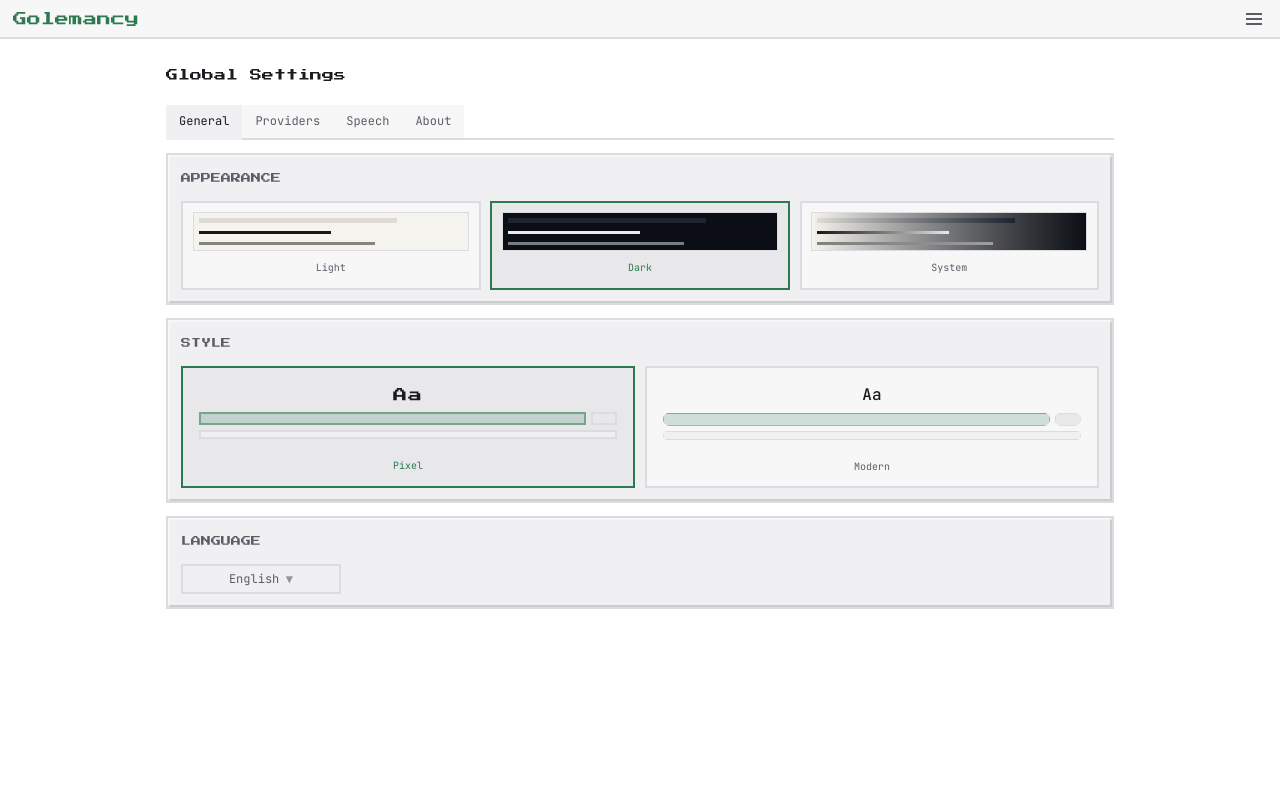
Test case: DefaultModelSection › shows orphaned warning when defaultModel references unavailable provider
Click the button "Providers". click: (288, 122)
box: [242,104,333,140]
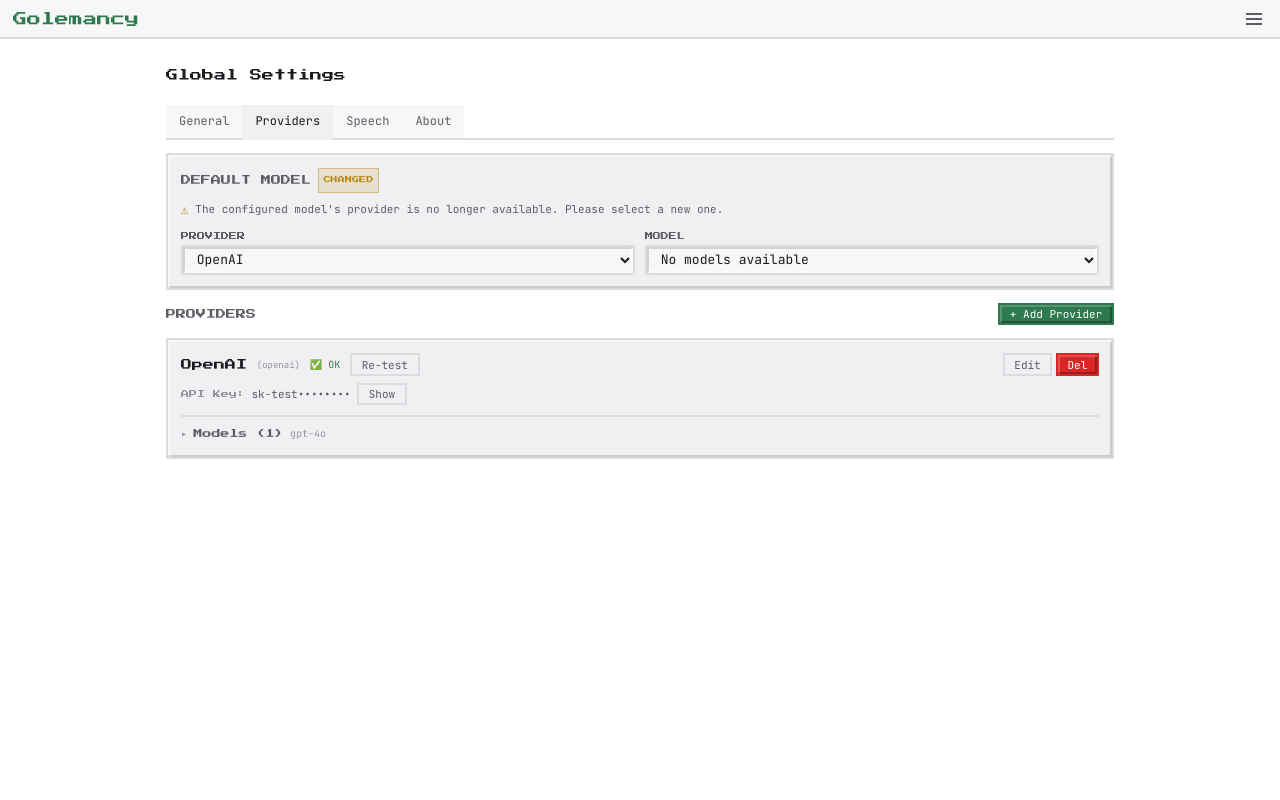
Expected: the text "no longer available" is shown, [195,202,723,216]
